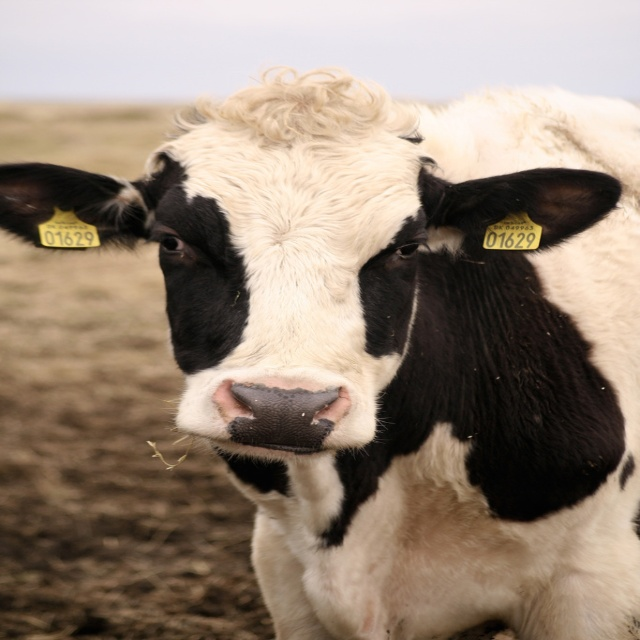Cattle: (0, 65, 640, 640)
